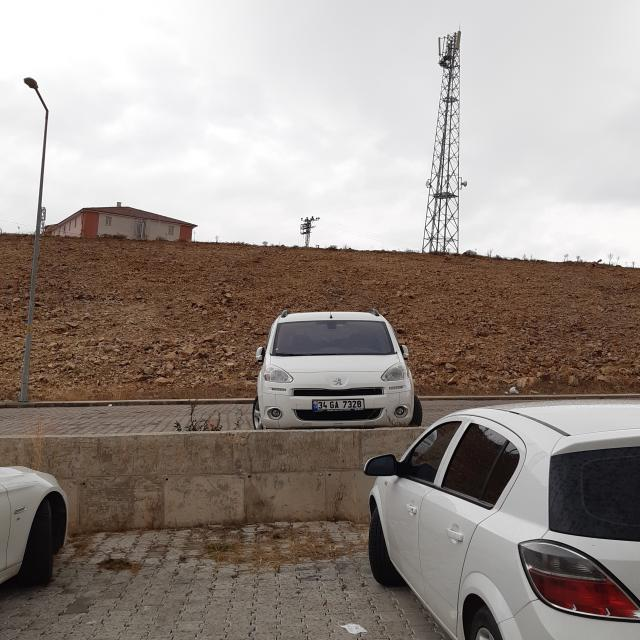license_plate: (312, 400, 364, 410)
